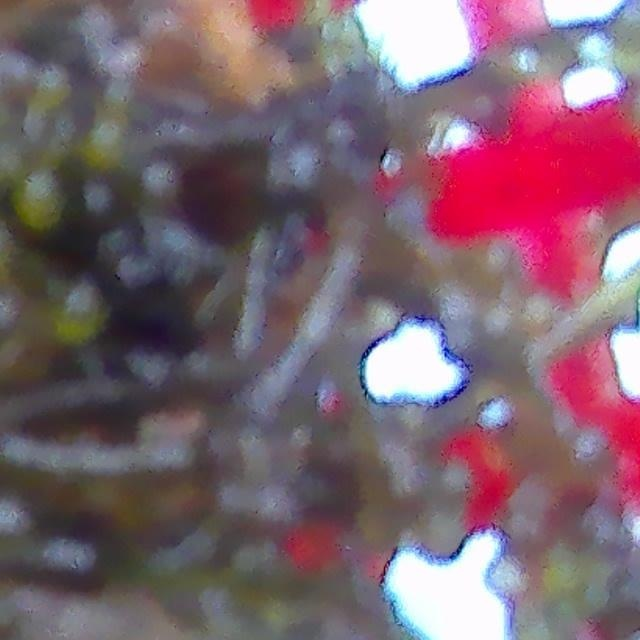SeaGrape: (17, 172, 73, 229), (78, 176, 131, 234)
